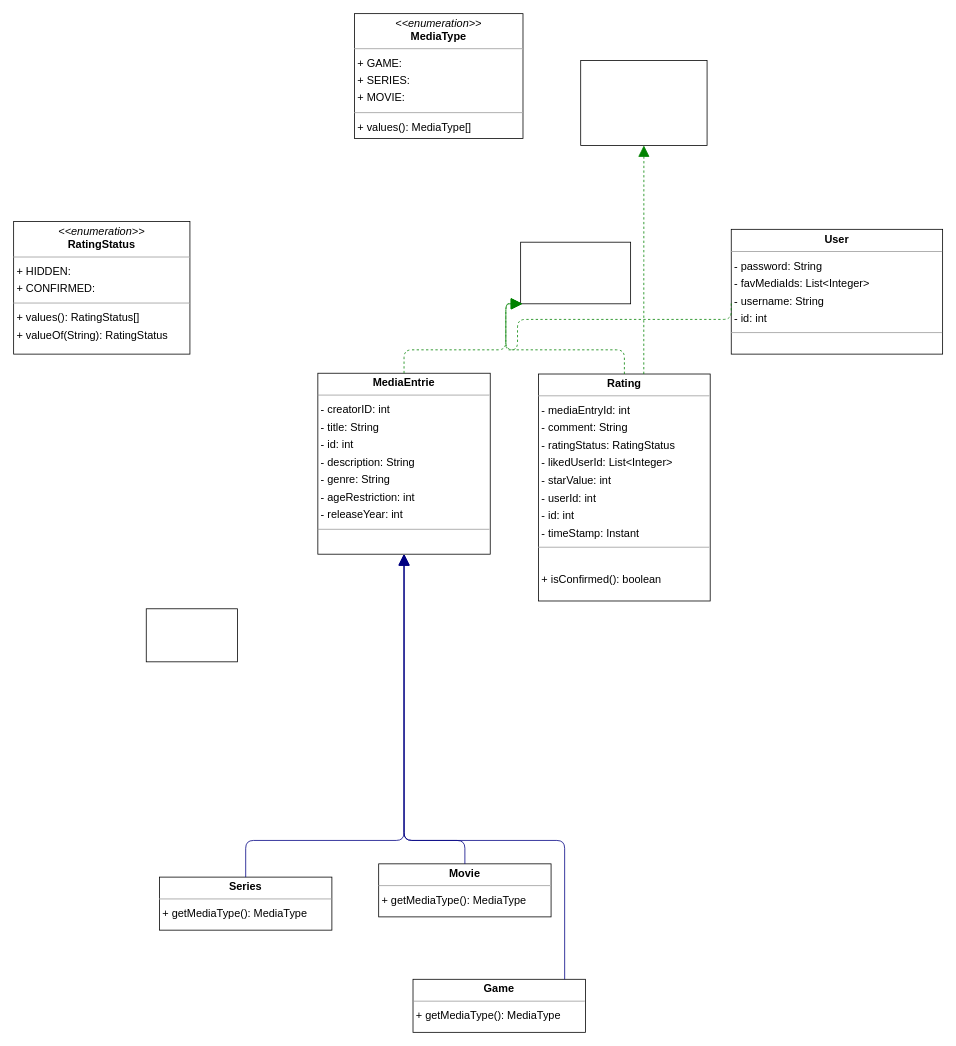
The diagram is 956 pixels wide and 1046 high, and some of its shapes have lost their labels. Each missing label, with the centre of its shape:
<<interface>> IIdentifiable + getId(): int: the point at 575,272
<<interface>> ILikeable + getLikeCount(): int + getId(): int: the point at 643,102
Main ~ main(): void: the point at 191,635
